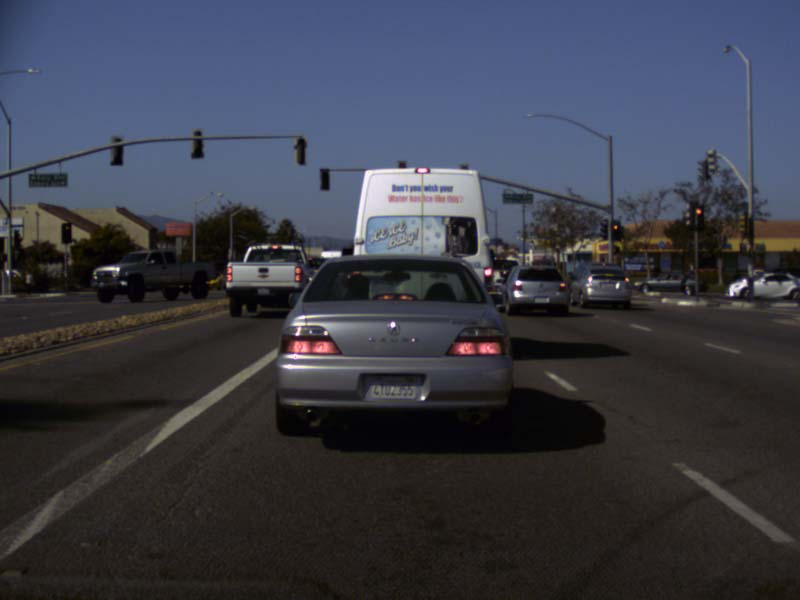Red: (608, 219, 622, 242), (692, 204, 704, 227), (61, 223, 71, 243), (398, 161, 405, 182), (460, 164, 467, 183)
